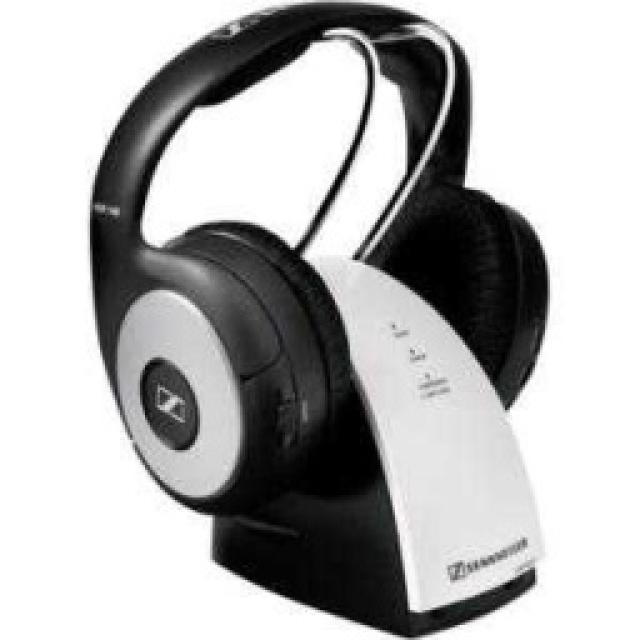headphones: (85, 0, 550, 638)
